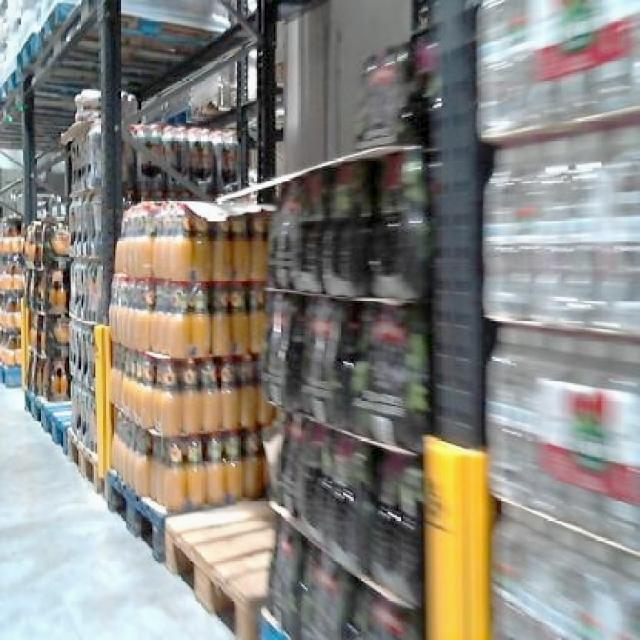pallets: (109, 198, 269, 509)
